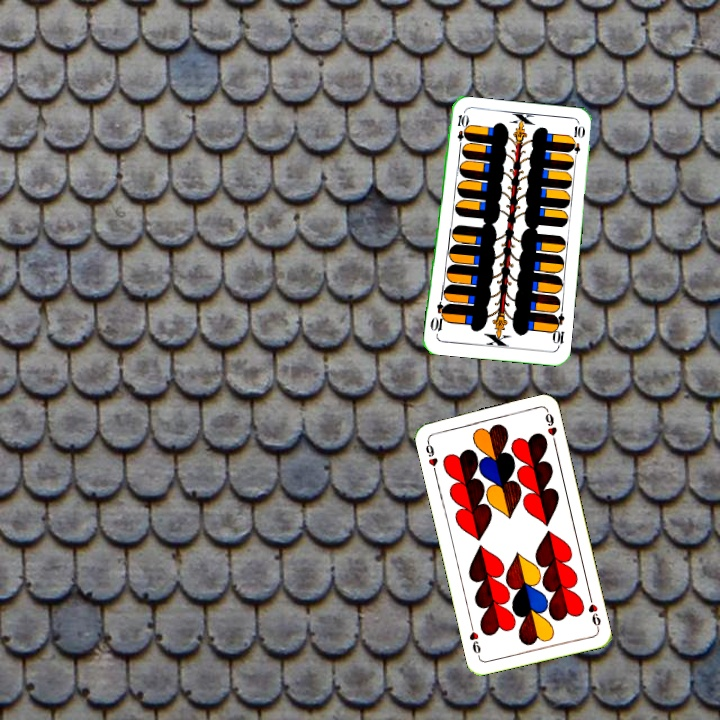E10: (548, 309, 567, 350), (453, 110, 467, 151)
H9: (584, 592, 603, 632), (422, 436, 440, 476)
